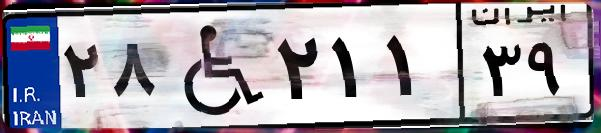1: (385, 28, 445, 110), (330, 28, 385, 110)
2: (270, 28, 330, 110), (57, 26, 110, 100)
3: (475, 38, 525, 113)
8: (110, 28, 158, 98)
9: (525, 38, 570, 115)
ژ (معلولین و جانبازان): (158, 12, 270, 120)
